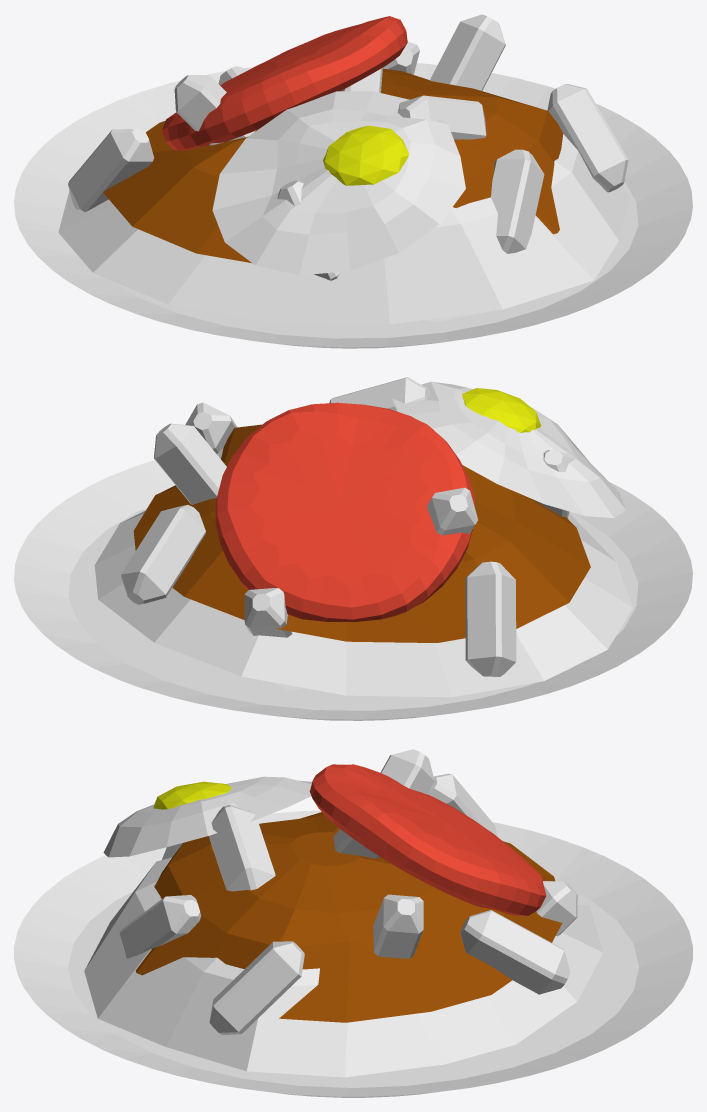
Rendered from LocoMocoPlated.fbx.
3 renders of one model, top to bottom at view 1: azimuth 30°, elevation 25°; view 2: azimuth 150°, elevation 25°; view 3: azimuth 270°, elevation 25°, orthographic.
Parts seen in each view (by area): view 1: RiceMound, Plate, EggWhites, RiceBlocks, Gravy, BurgerPatty, EggYolk; view 2: BurgerPatty, Plate, RiceMound, Gravy, RiceBlocks, EggWhites, EggYolk; view 3: Plate, Gravy, RiceMound, RiceBlocks, BurgerPatty, EggWhites, EggYolk.
Boxes of the visible parts, left/top/right/bottom form: RiceMound: left=58, top=134, right=629, bottom=324; Plate: left=14, top=63, right=692, bottom=348; EggWhites: left=212, top=91, right=465, bottom=275; RiceBlocks: left=68, top=14, right=628, bottom=280; Gravy: left=103, top=68, right=563, bottom=262; BurgerPatty: left=161, top=16, right=407, bottom=150; EggYolk: left=323, top=125, right=408, bottom=185; BurgerPatty: left=215, top=402, right=474, bottom=621; Plate: left=14, top=460, right=692, bottom=720; RiceMound: left=94, top=448, right=632, bottom=697; Gravy: left=133, top=424, right=590, bottom=642; RiceBlocks: left=121, top=377, right=574, bottom=676; EggWhites: left=392, top=381, right=625, bottom=518; EggYolk: left=462, top=388, right=541, bottom=432; Plate: left=14, top=810, right=692, bottom=1097; Gravy: left=135, top=812, right=562, bottom=1022; RiceMound: left=84, top=857, right=603, bottom=1077; RiceBlocks: left=119, top=749, right=577, bottom=1034; BurgerPatty: left=309, top=764, right=546, bottom=915; EggWhites: left=103, top=776, right=312, bottom=857; EggYolk: left=153, top=781, right=231, bottom=809.
Bounding box in the file's own units: 56.9 × 18.09 × 56.9.
